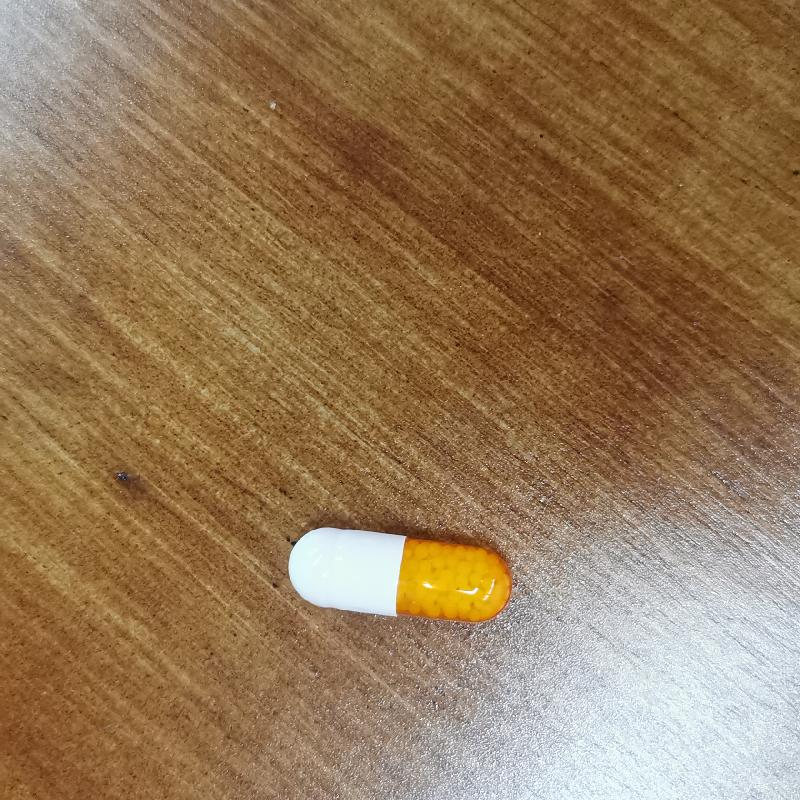pills: (278, 500, 522, 649)
